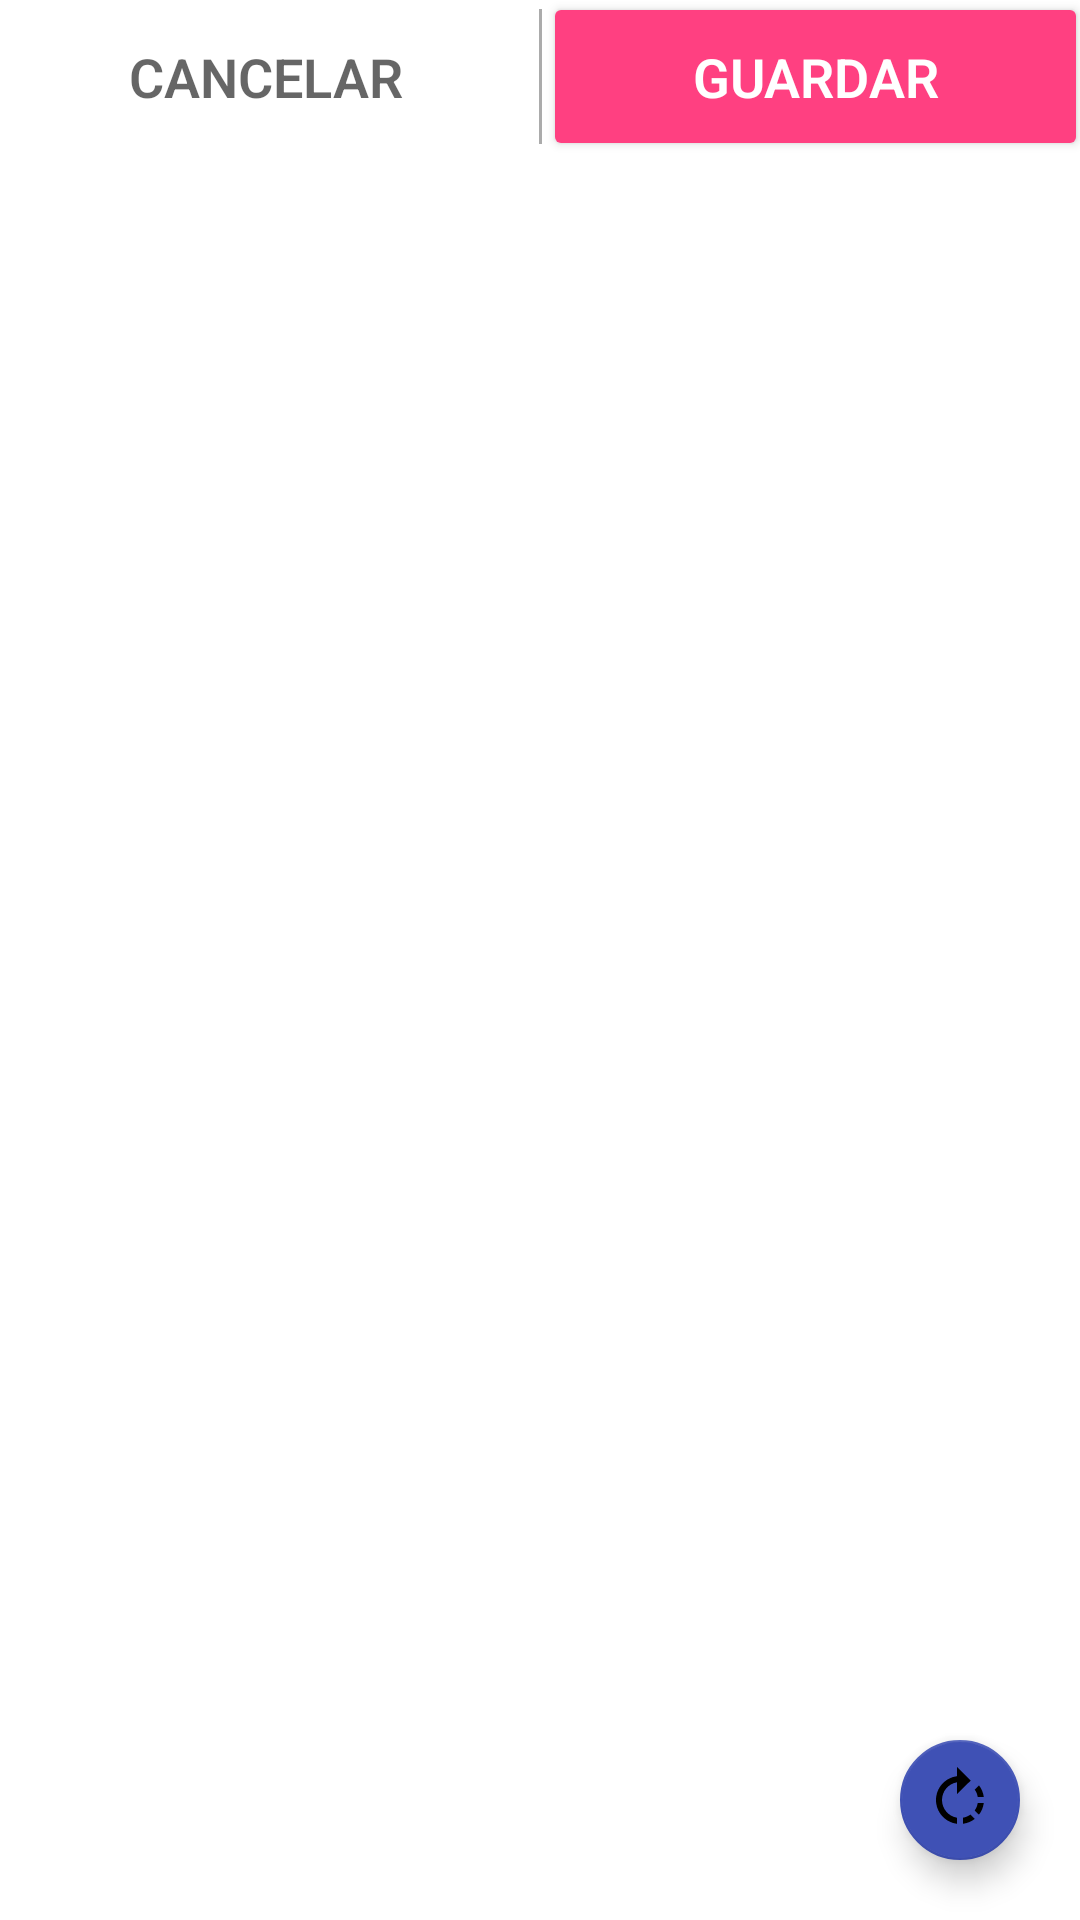

Where to tap for icons on this 1080px×1920px app screen, as point (x, y):
rotate: point (961, 1806)
